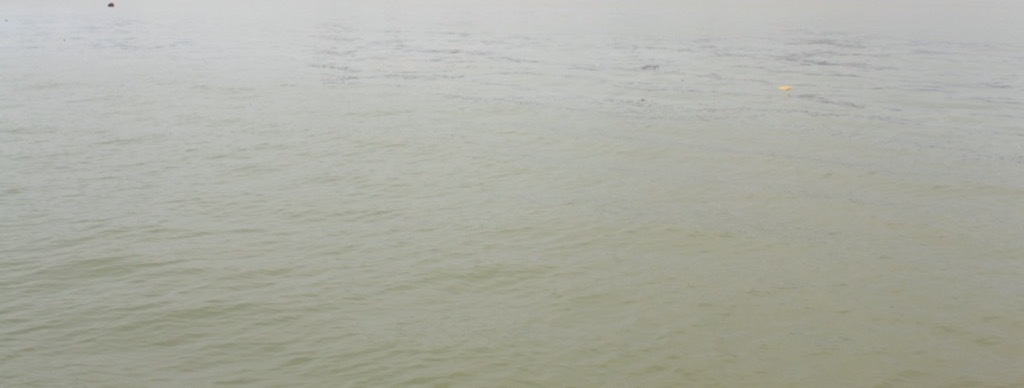organic: (102, 1, 120, 15), (638, 93, 653, 108)
plastic: (772, 78, 800, 99)
